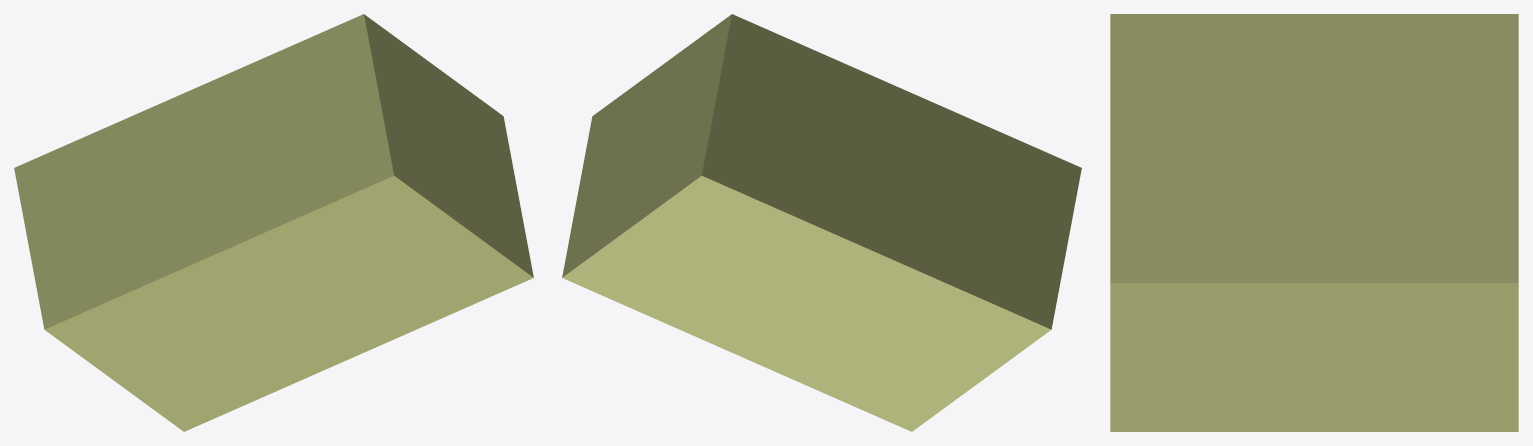
3 views of the same model, side by side, from view 1: azimuth 30°, elevation 25°; view 2: azimuth 150°, elevation 25°; view 3: azimuth 270°, elevation 25° (orthographic). The views are drawn at different scales.
Visible parts, largest first — view 1: 0_1_3_2_1_2_3_2_1_2_0; view 2: 0_1_3_2_1_2_3_2_1_2_0; view 3: 0_1_3_2_1_2_3_2_1_2_0.
Part boxes in pixels (bbox=[...]): 0_1_3_2_1_2_3_2_1_2_0: bbox=[14, 14, 533, 431]; 0_1_3_2_1_2_3_2_1_2_0: bbox=[562, 14, 1081, 431]; 0_1_3_2_1_2_3_2_1_2_0: bbox=[1110, 14, 1518, 431].
Size of the model in its own units: 9.42 by 5.63 by 6.
